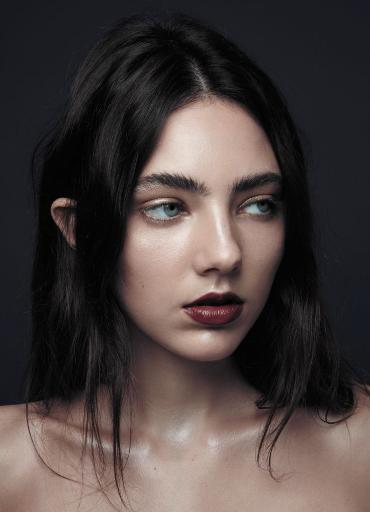left_eye: (240, 196, 281, 223)
left_lip_corner: (239, 297, 250, 314)
right_eye: (139, 199, 191, 227)
right_lip_corner: (177, 300, 190, 320)
